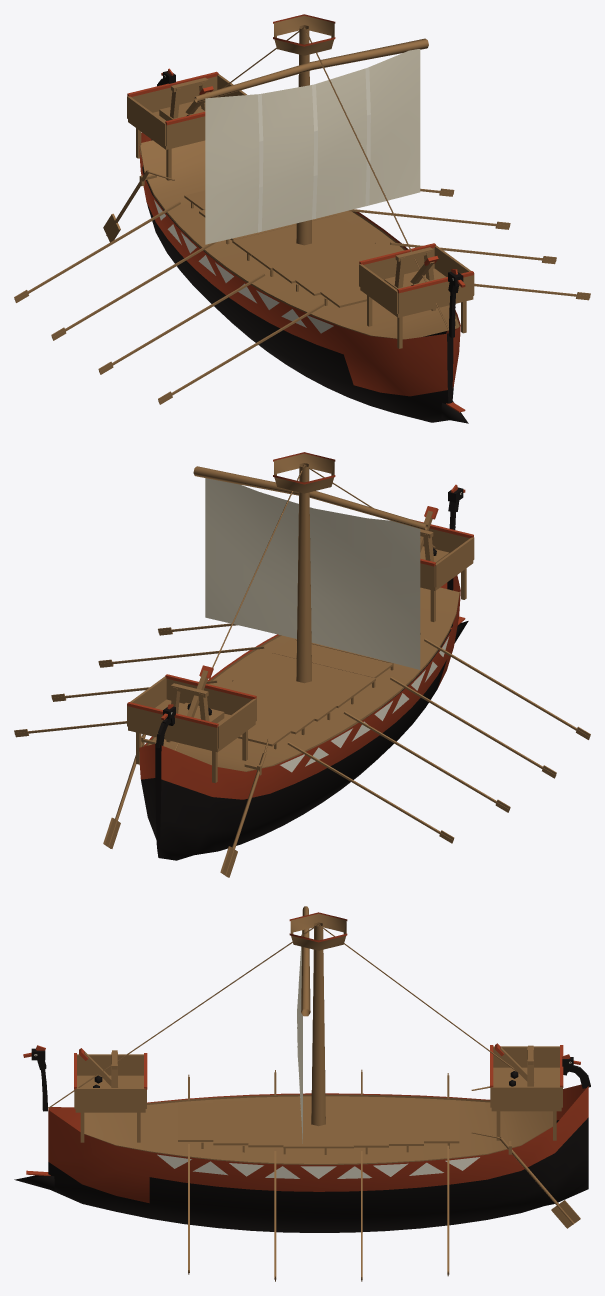
Rendered from ship_bomber_blockout_LOD1.obj.
3 renders of one model, top to bottom at view 1: azimuth 30°, elevation 25°; view 2: azimuth 150°, elevation 25°; view 3: azimuth 270°, elevation 25°, orthographic. The views are drawn at different scales.
Parts seen in each view (by area): view 1: ship_bomber_blockout_LOD1; view 2: ship_bomber_blockout_LOD1; view 3: ship_bomber_blockout_LOD1.
Boxes of the visible parts, box(x1,y1,x2,y2) form: ship_bomber_blockout_LOD1: box(14, 14, 590, 423); ship_bomber_blockout_LOD1: box(14, 452, 590, 877); ship_bomber_blockout_LOD1: box(14, 906, 590, 1281).
Size of the model in its own units: 23.89 by 16.2 by 28.11.
